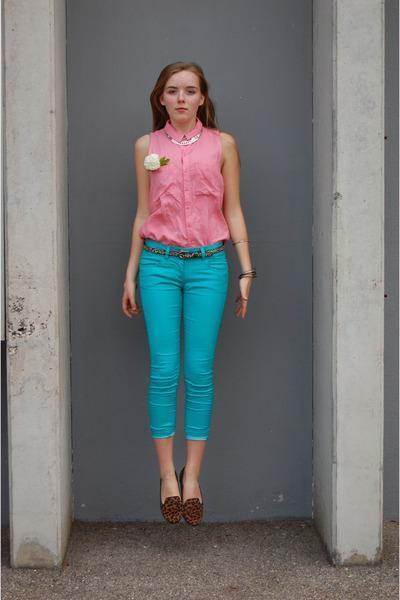short sleeve shirt: (140, 115, 229, 252)
trousers: (135, 237, 232, 447)
